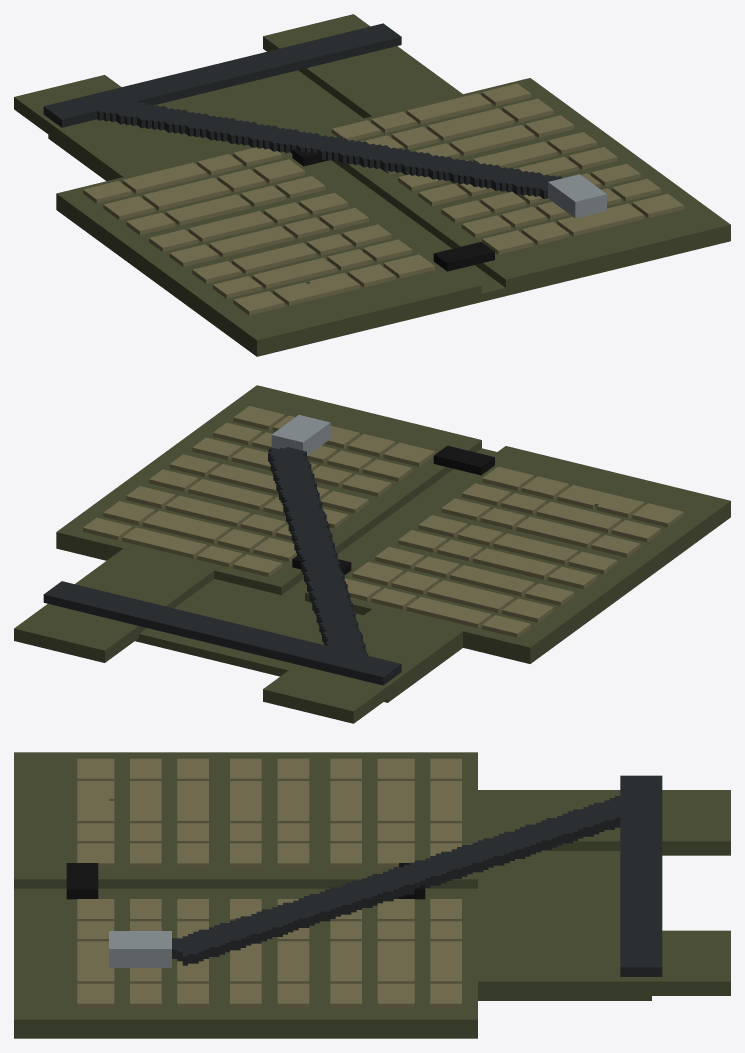
File: load_bearing_vest_sling.glb
The picture shows the model from 3 angles, top to bottom: view 1: azimuth 30°, elevation 25°; view 2: azimuth 150°, elevation 25°; view 3: azimuth 270°, elevation 25°; orthographic projection. The views are drawn at different scales.
Visible parts, largest first — view 1: load_bearing_vest_sling:compound; view 2: load_bearing_vest_sling:compound; view 3: load_bearing_vest_sling:compound.
Boxes of the visible parts, box(x1,y1,x2,y2) form: load_bearing_vest_sling:compound: box(14, 14, 730, 356); load_bearing_vest_sling:compound: box(14, 385, 730, 723); load_bearing_vest_sling:compound: box(14, 752, 730, 1038).
Size of the model in its own units: 0.48 by 0.036 by 0.544.
